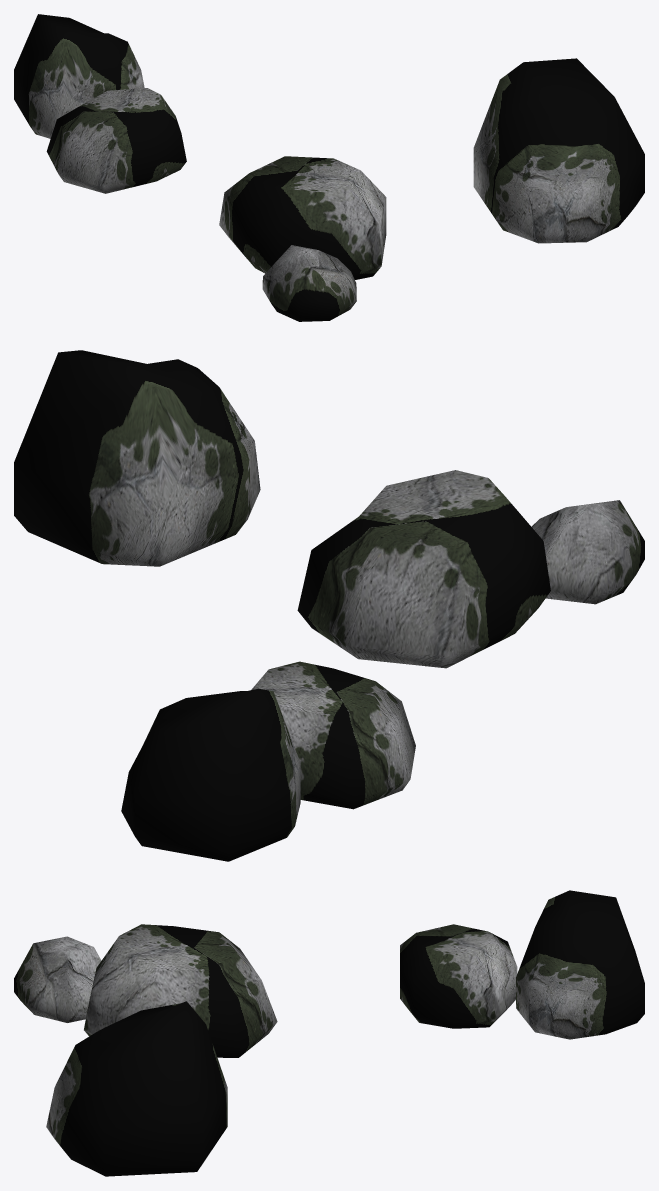
The model's file is Roca4.obj.
3 views of the same model, one above another, from view 1: azimuth 30°, elevation 25°; view 2: azimuth 150°, elevation 25°; view 3: azimuth 270°, elevation 25° (orthographic). The views are drawn at different scales.
Visible parts, largest first — view 1: Rock04; view 2: Rock04; view 3: Rock04.
Boxes of the visible parts, left/top/right/bottom form: Rock04: left=14, top=14, right=644, bottom=321; Rock04: left=14, top=350, right=644, bottom=861; Rock04: left=14, top=890, right=644, bottom=1176.
Size of the model in its own units: 10.52 by 3.21 by 13.27.
Materials: 1 (1 with a texture image).
